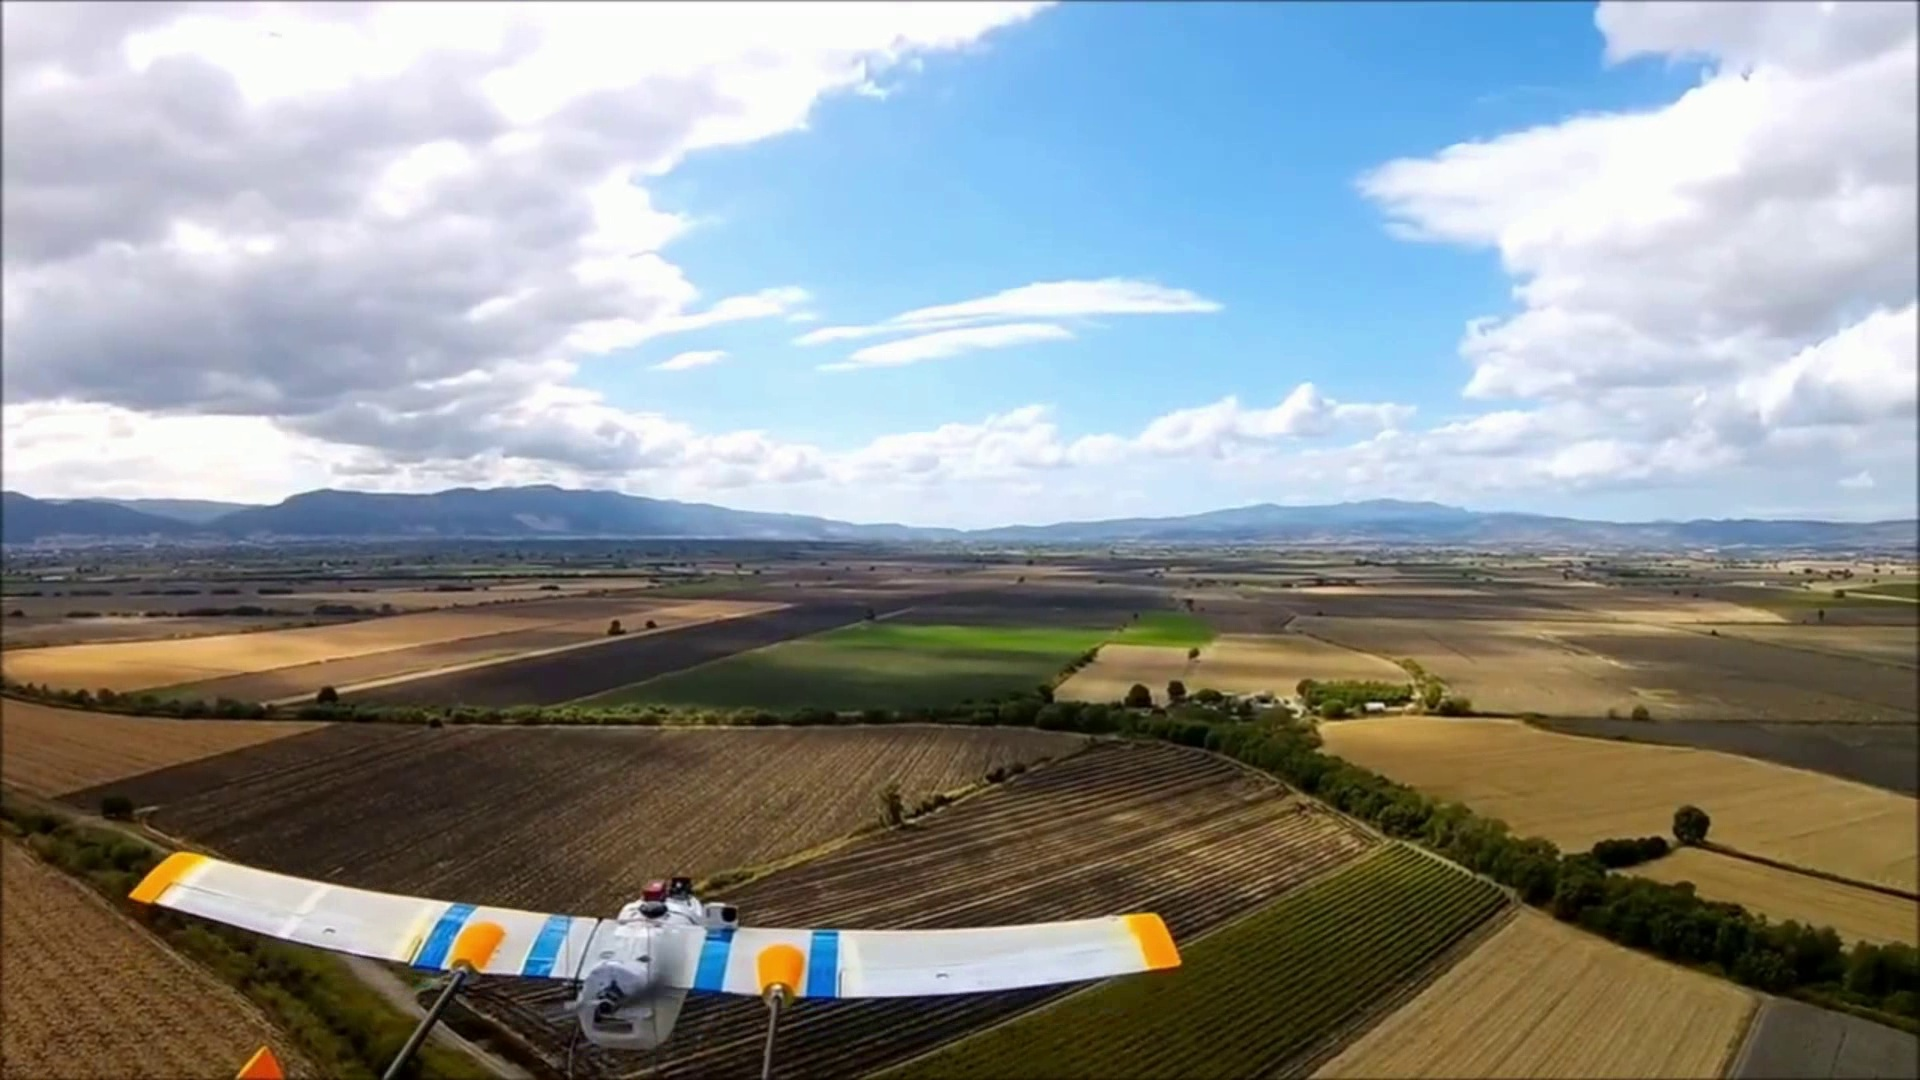airplane: (123, 843, 1187, 1054)
